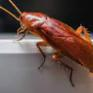cockroach: (17, 10, 93, 75)
